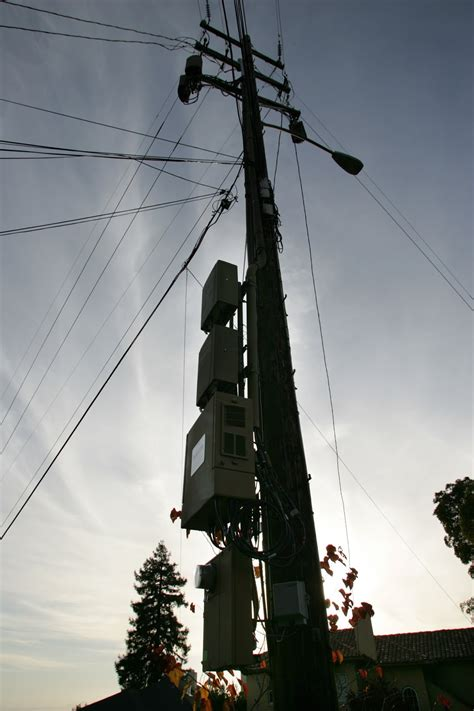pole: (165, 5, 388, 710)
